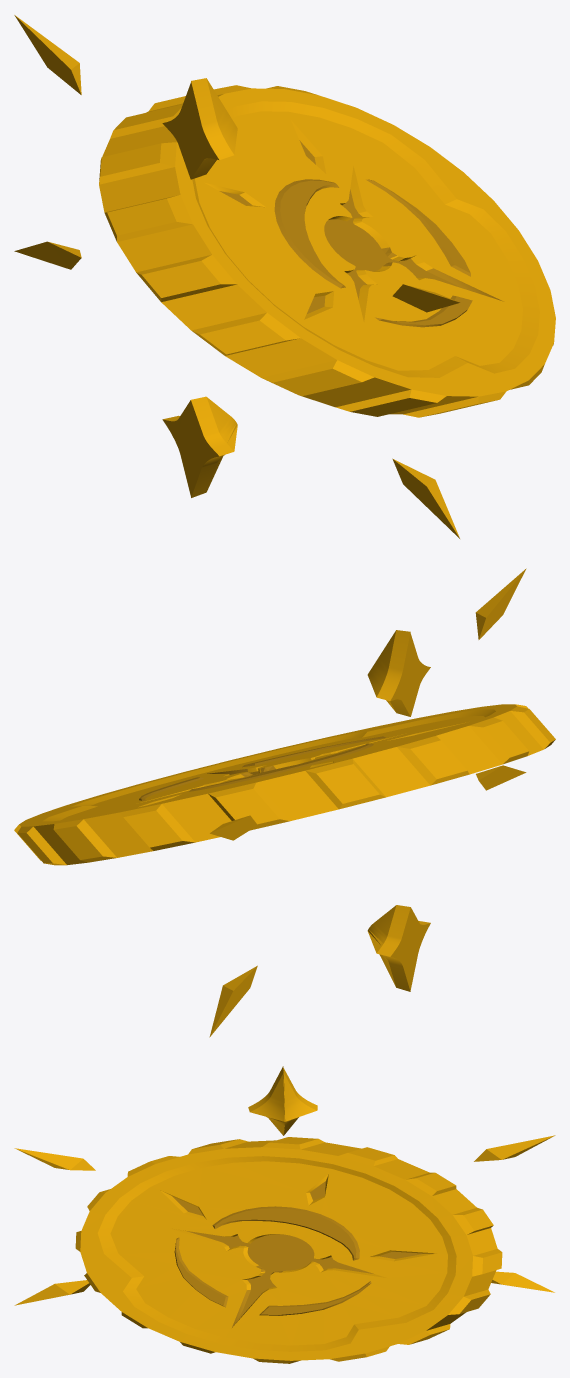
File: coin_2_lev2.glb
3 renders of one model, top to bottom at view 1: azimuth 30°, elevation 25°; view 2: azimuth 150°, elevation 25°; view 3: azimuth 270°, elevation 25°, orthographic. The views are drawn at different scales.
Visible parts, largest first — view 1: coin.001_lev1_lev2; view 2: coin.001_lev1_lev2; view 3: coin.001_lev1_lev2.
Part boxes in pixels (bbox=[...]): coin.001_lev1_lev2: bbox=[14, 15, 555, 538]; coin.001_lev1_lev2: bbox=[14, 568, 555, 1037]; coin.001_lev1_lev2: bbox=[14, 1066, 555, 1363].
Size of the model in its own units: 4.09 by 3.63 by 6.42.
1 material, 1 textured.
